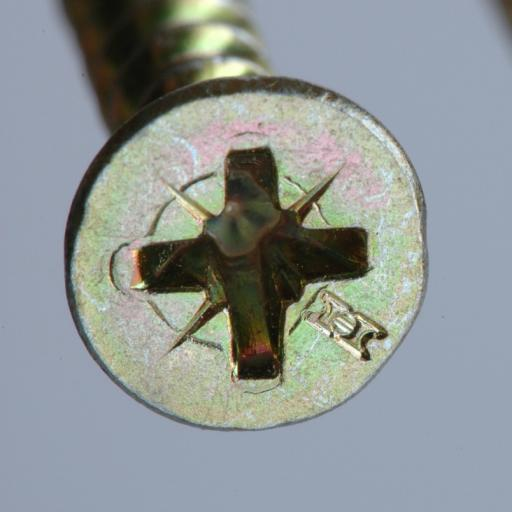Phillips: (60, 75, 434, 433)
